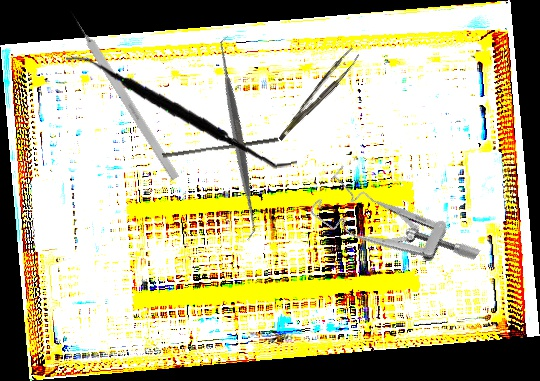Hook Surgical: (66, 8, 180, 181)
Pusher: (162, 132, 279, 163)
Spatula Surgical: (134, 34, 341, 242), (65, 37, 298, 183)
Speculum: (307, 153, 482, 308)
Tissue Forceps: (268, 46, 365, 142)
